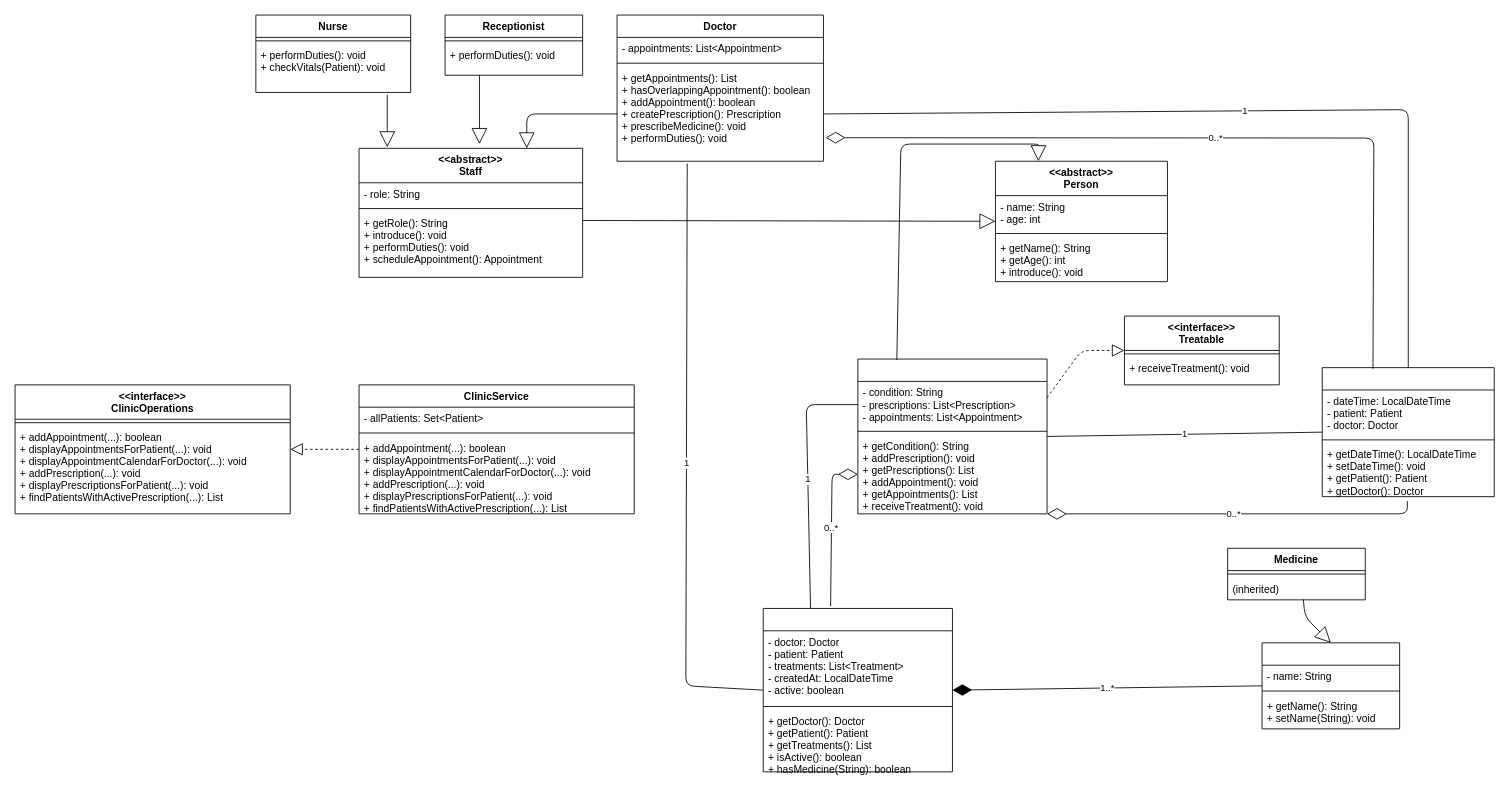
Image size: 1509x789. Some labels were removed from this diagram. Here are the shapes that lost their labels. From the top down, the box of each, then its label:
(857, 358, 1047, 514): Patient
(1321, 367, 1494, 497): Appointment
(762, 608, 952, 772): Prescription
(1261, 642, 1400, 729): Treatment
